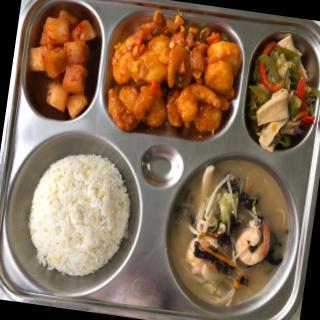Nasi: (25, 141, 142, 288)
